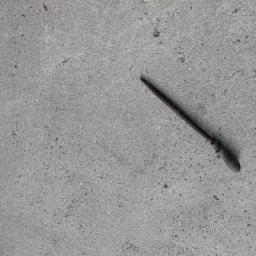FOD: (141, 74, 244, 177)
